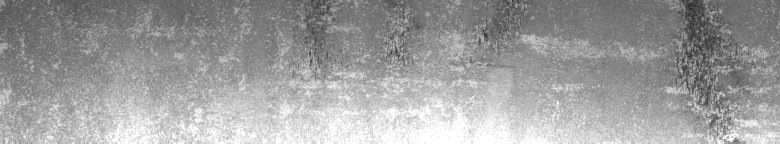hc: (676, 4, 740, 125)
